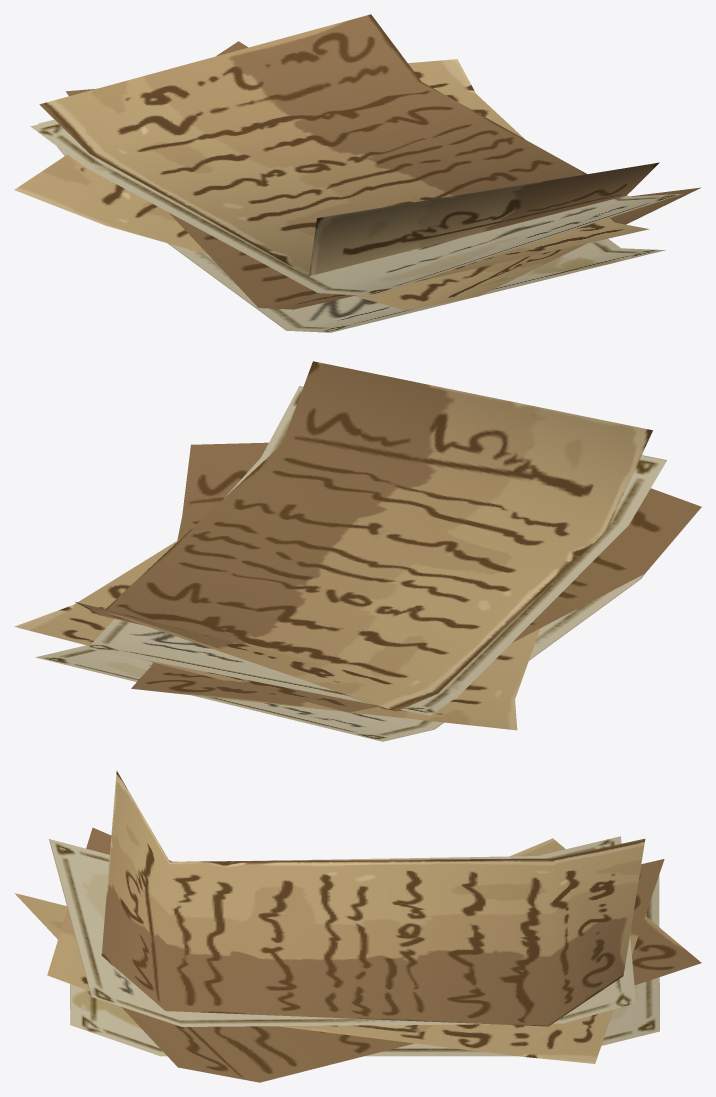
Rendered from SM_PROP_scroll_dungeon_04.fbx.
3 renders of one model, top to bottom at view 1: azimuth 30°, elevation 25°; view 2: azimuth 150°, elevation 25°; view 3: azimuth 270°, elevation 25°, orthographic. The views are drawn at different scales.
Visible parts, largest first — view 1: SM_PROP_scroll_dungeon_04; view 2: SM_PROP_scroll_dungeon_04; view 3: SM_PROP_scroll_dungeon_04.
Boxes of the visible parts, x1,y1,x2,y2 form: SM_PROP_scroll_dungeon_04: (14, 14, 700, 332); SM_PROP_scroll_dungeon_04: (14, 361, 701, 741); SM_PROP_scroll_dungeon_04: (14, 771, 701, 1082).
Size of the model in its own units: 41.22 by 9.86 by 48.73.
